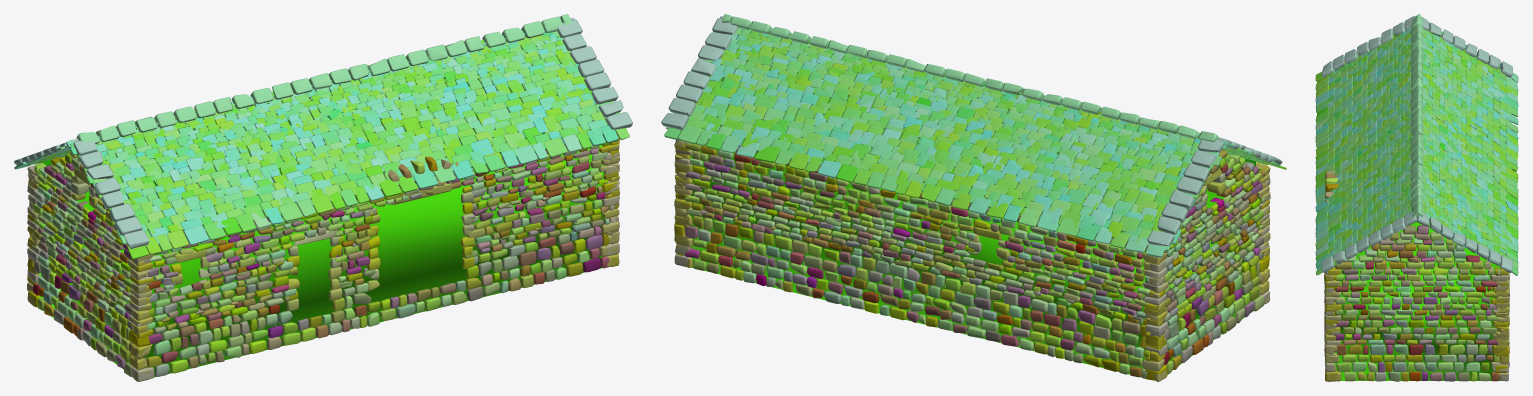
Rendered from SM_Barn_13.glb.
3 views of the same model, side by side, from view 1: azimuth 30°, elevation 25°; view 2: azimuth 150°, elevation 25°; view 3: azimuth 270°, elevation 25° (orthographic). The views are drawn at different scales.
Parts seen in each view (by area): view 1: SM_Barn_13; view 2: SM_Barn_13; view 3: SM_Barn_13.
Boxes of the visible parts, box(x1,y1,x2,y2) form: SM_Barn_13: box(14, 14, 632, 381); SM_Barn_13: box(661, 14, 1286, 381); SM_Barn_13: box(1315, 14, 1518, 381).
Size of the model in its own units: 15.78 by 6.21 by 6.61.
